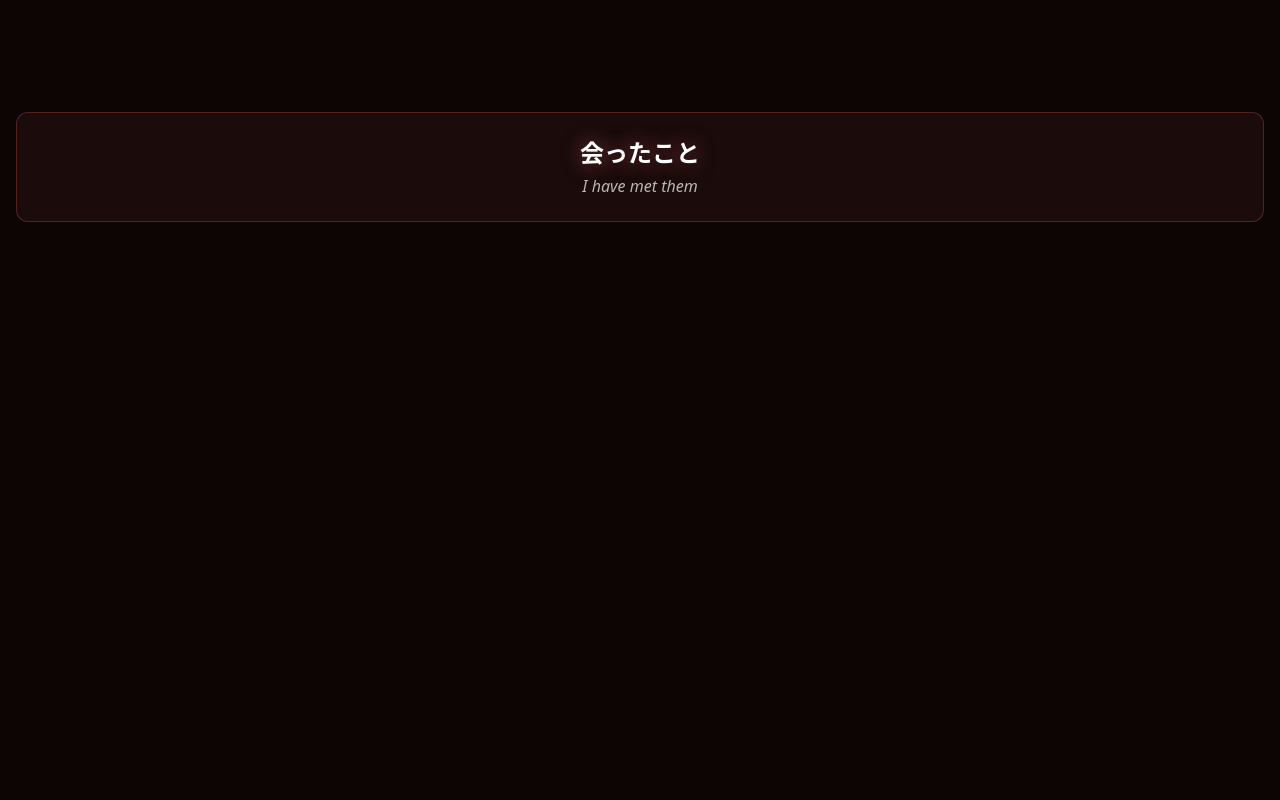
Test: grammar hints › shows the pattern when you tap a word it covers
Click the button with aria-label "look up こと" at (676, 152), box top-left (652, 134), bottom-right (700, 169)
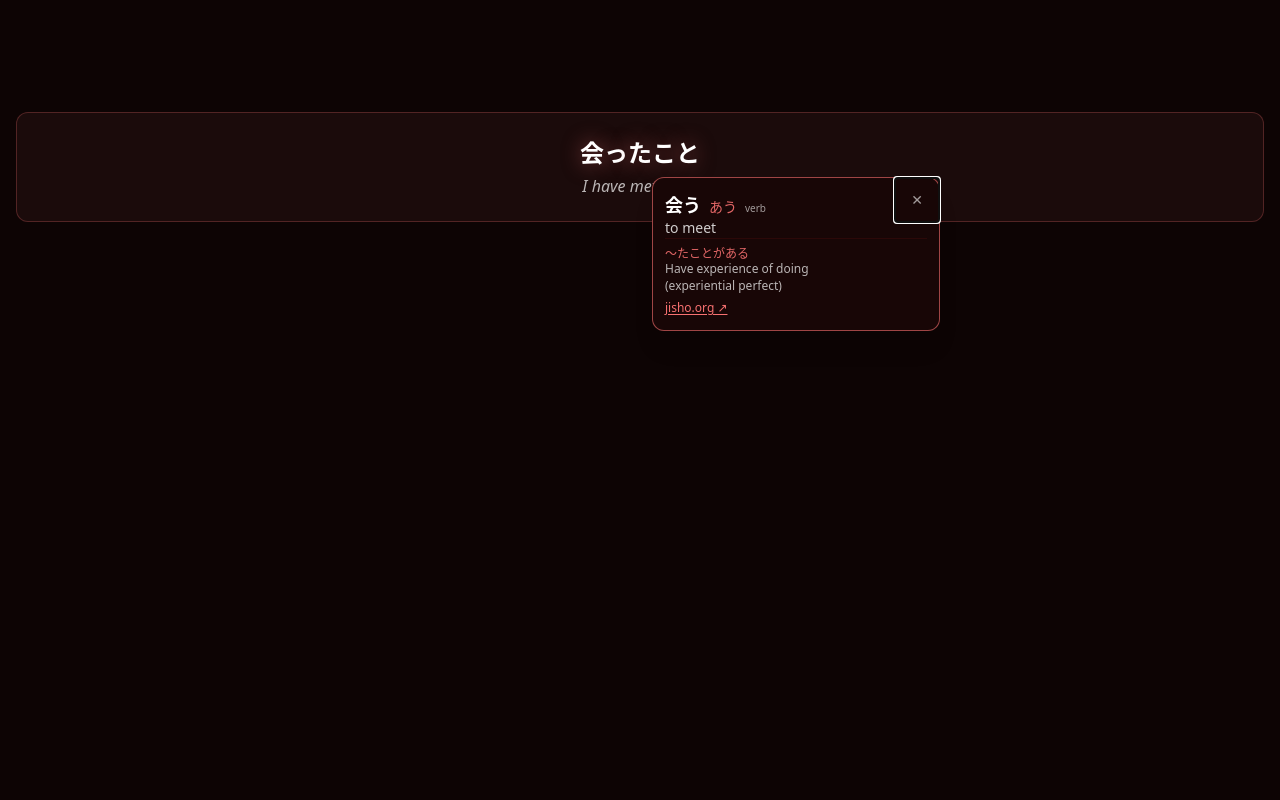
Result: the dialog named "dictionary entry" is shown at top-left (652, 177), bottom-right (940, 331)
Result: the text "〜たことがある" is shown at top-left (665, 244), bottom-right (749, 261)
Result: the text "Have experience of doing (experiential perfect)" is shown at top-left (665, 260), bottom-right (809, 294)
